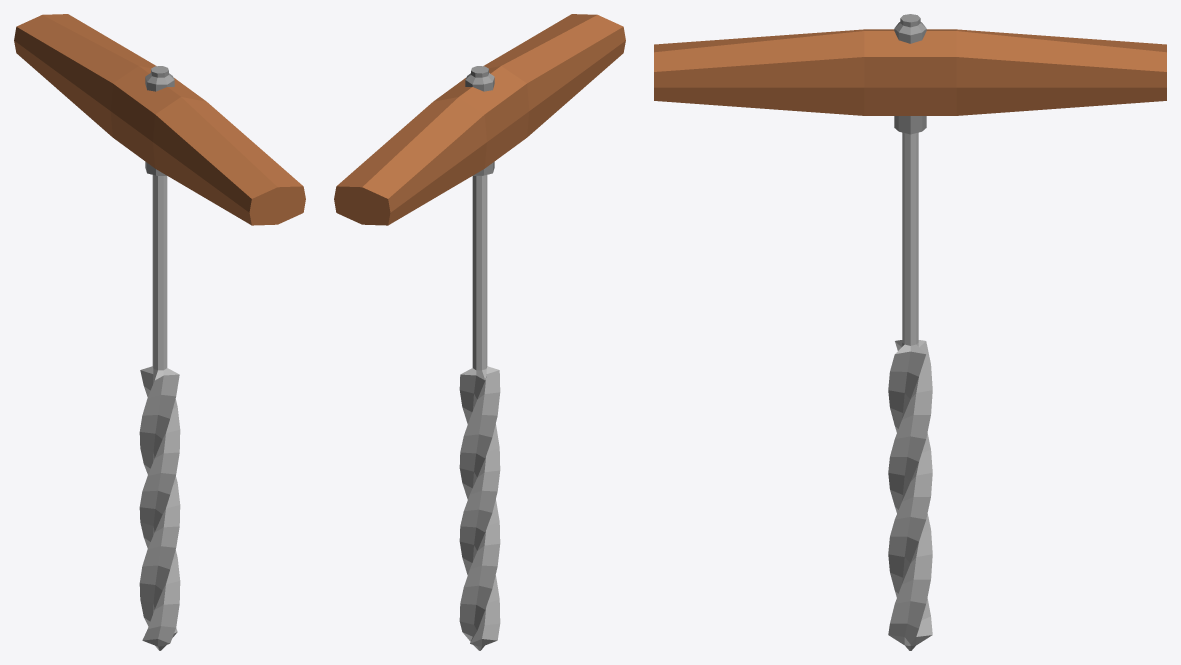
The model's file is drill01.gltf.
3 views of the same model, side by side, from view 1: azimuth 30°, elevation 25°; view 2: azimuth 150°, elevation 25°; view 3: azimuth 270°, elevation 25° (orthographic). The views are drawn at different scales.
Visible parts, largest first — view 1: Cylinder.001; view 2: Cylinder.001; view 3: Cylinder.001.
Boxes of the visible parts, x1,y1,x2,y2 form: Cylinder.001: (14,14,305,650); Cylinder.001: (334,14,625,650); Cylinder.001: (654,14,1166,650).
Bounding box in the file's own units: 0.0156 × 0.1537 × 0.113.
Materials: 1 (1 with a texture image).
